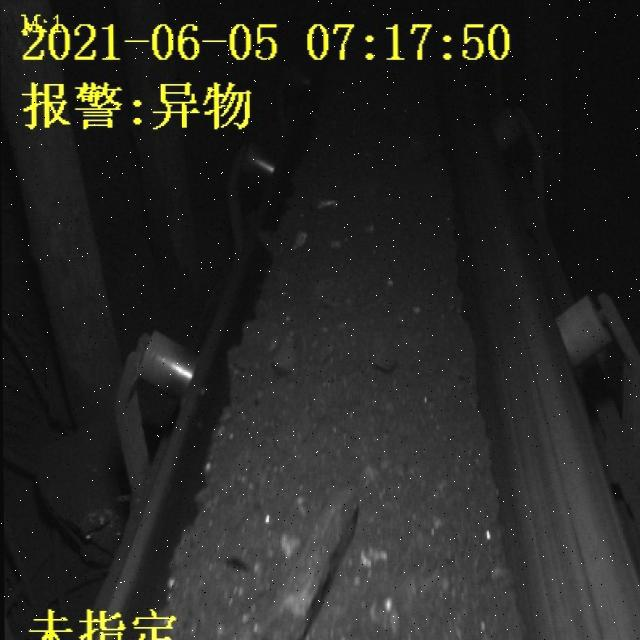large_sized_coal: (265, 486, 363, 640), (231, 325, 298, 388)
